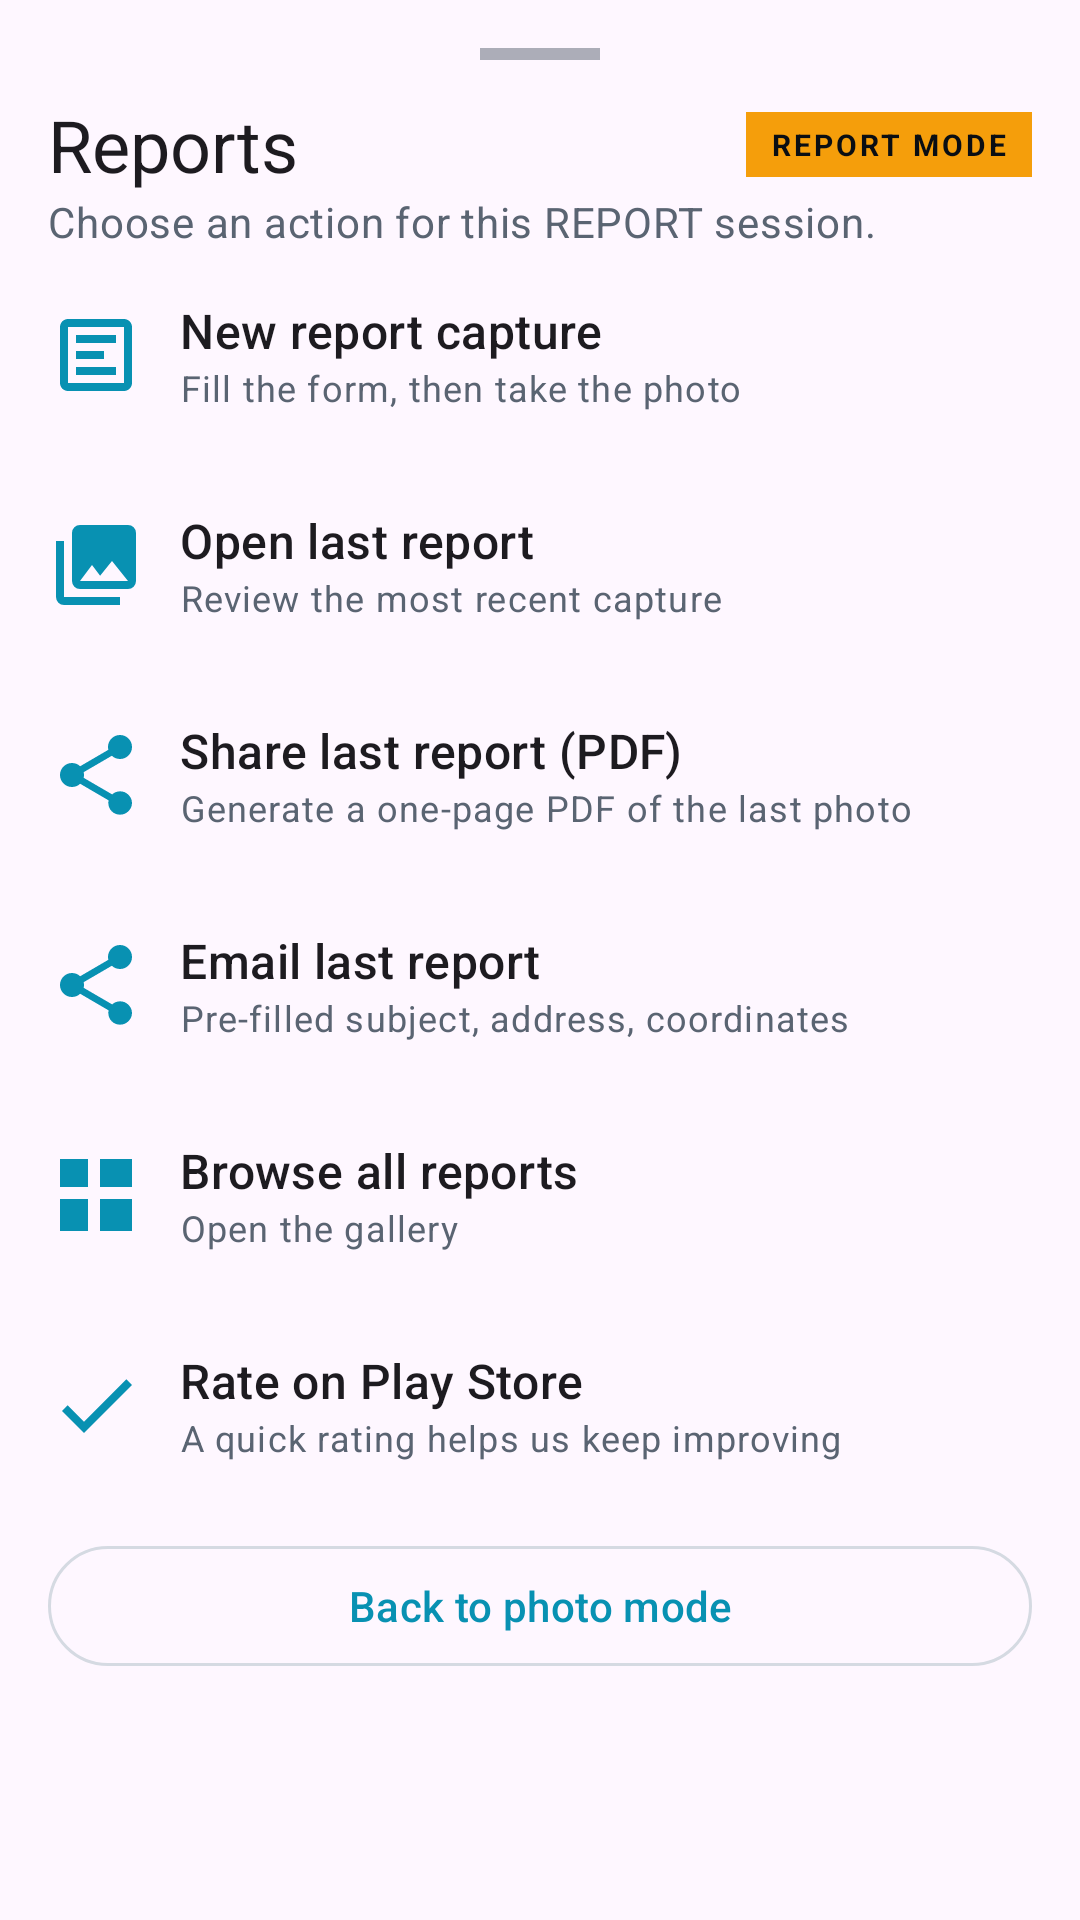

Screen size 1080px x 1920px. Icon name, then its center in pixels as (x,y):
check: (97,1406)
gallery: (96,565)
